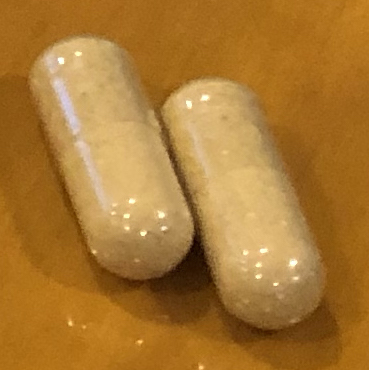capsule: (159, 74, 329, 332), (24, 38, 197, 282)
